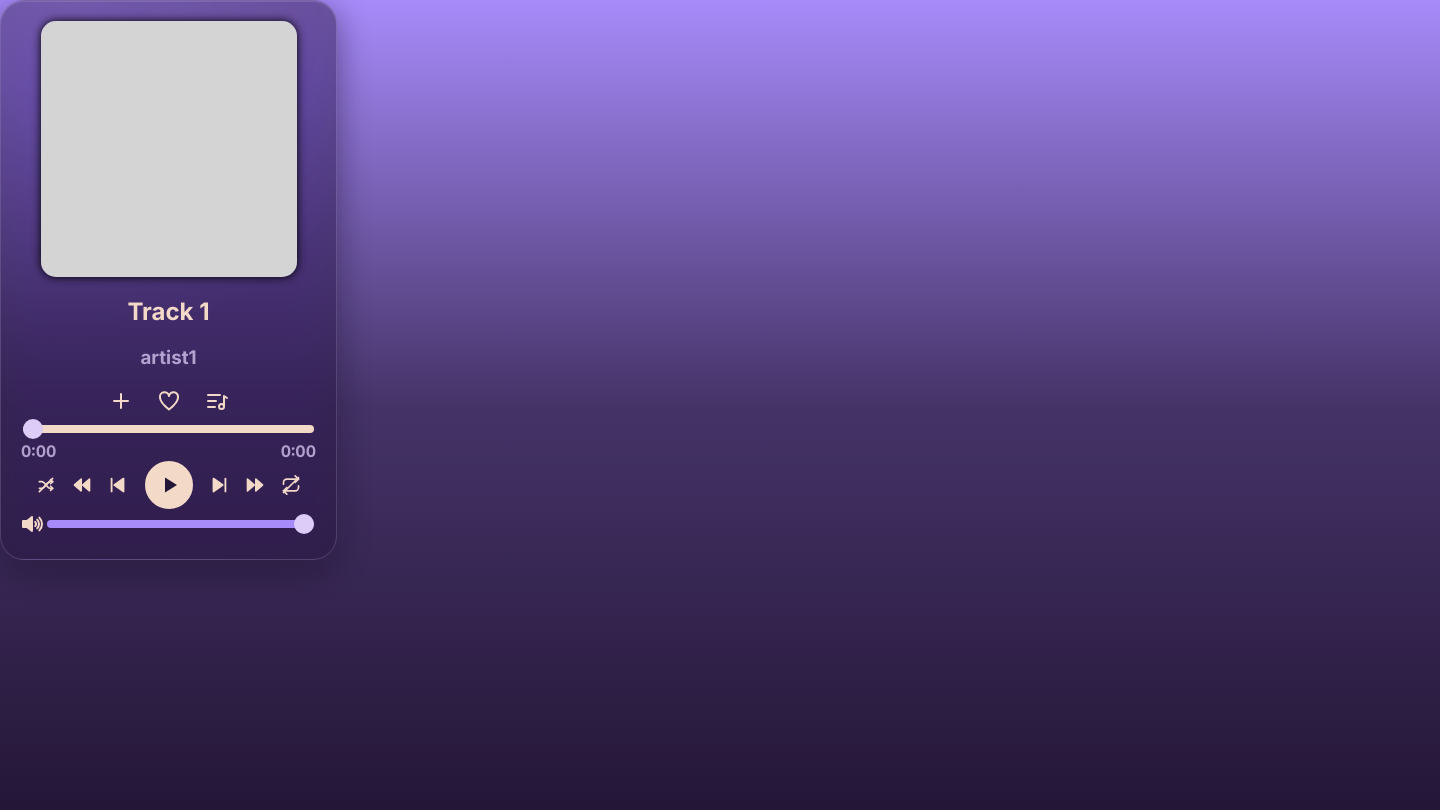
it: AudioPlayer › play / pause › shows a snackbar when playback is rejected
The width and height of the screenshot is (1440, 810).
Click the button named "Play": coordinates (168, 486) [144,460,192,512]
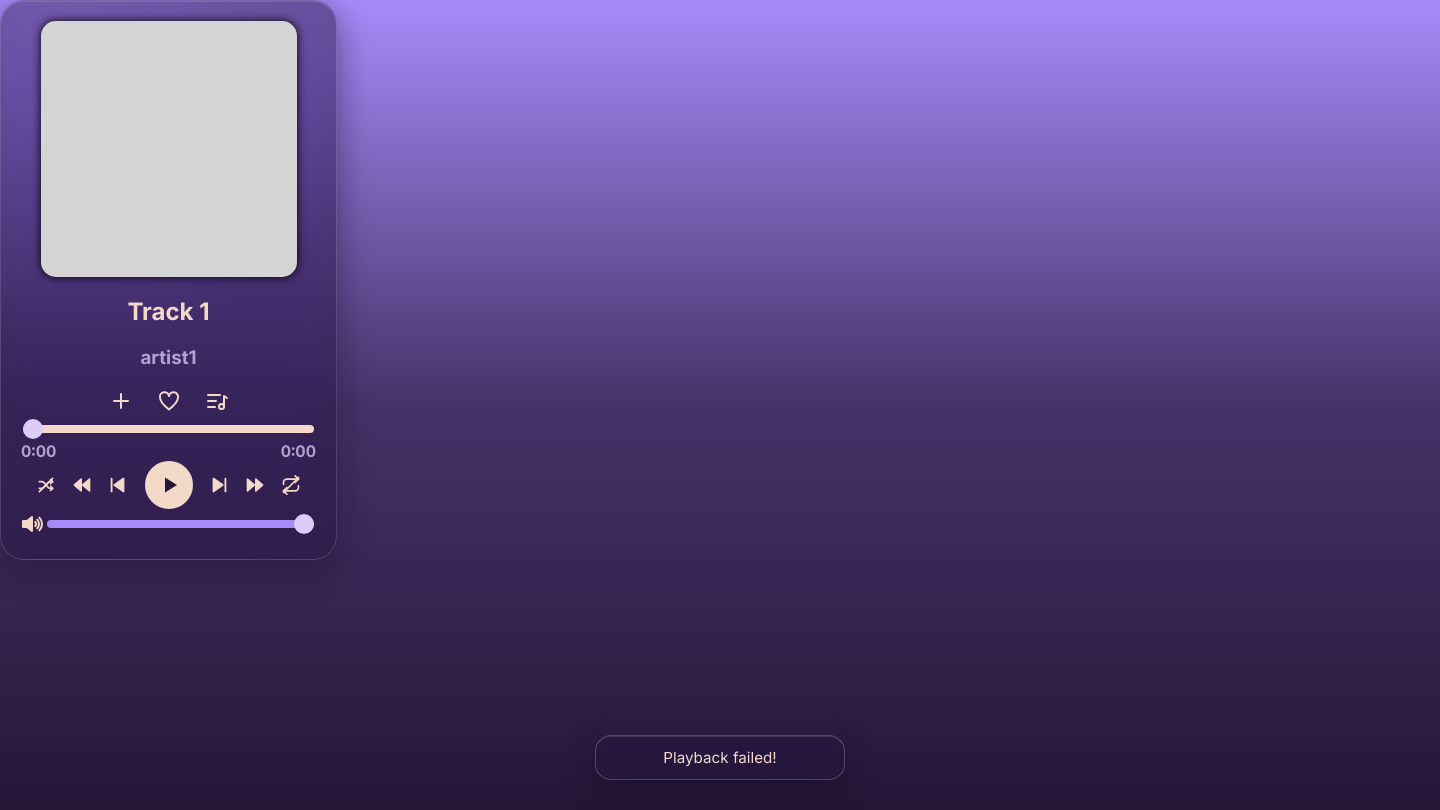
Expected: the text with id "snackbar" reads "Playback failed!", [663,748,777,767]
